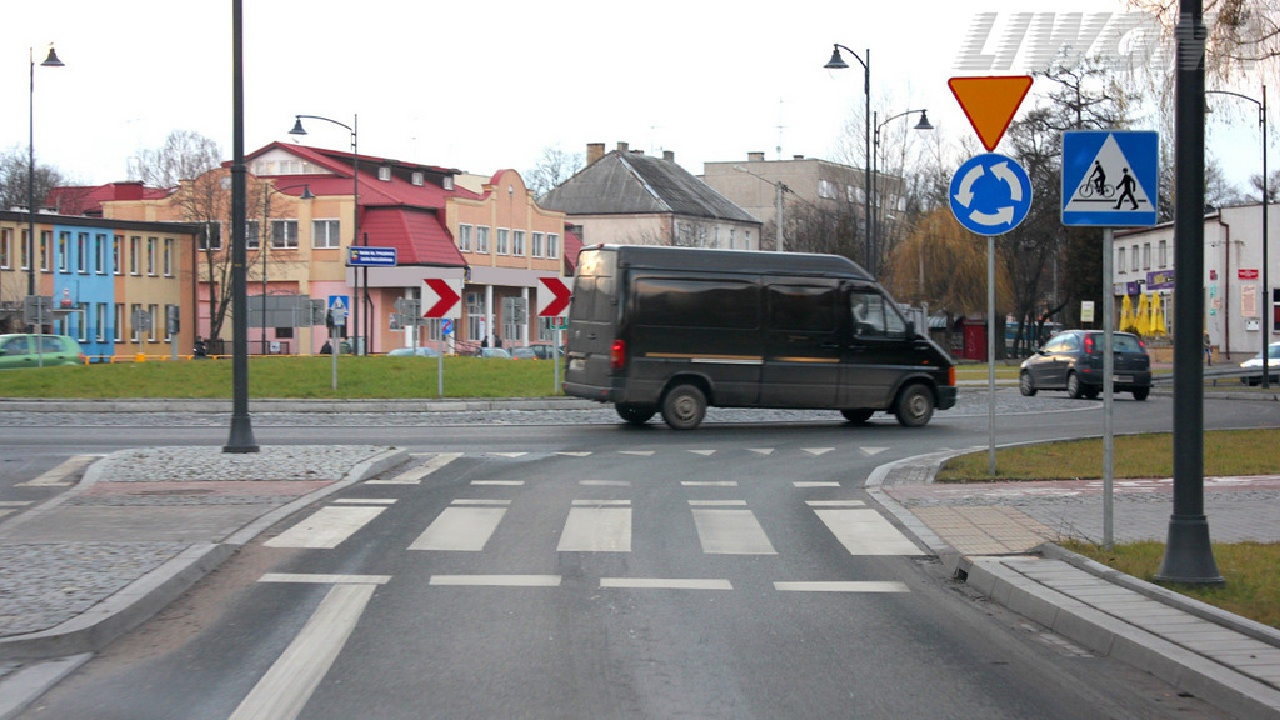A7: (948, 75, 1035, 152)
C12: (947, 154, 1033, 238)
D6b: (1063, 129, 1158, 228)
